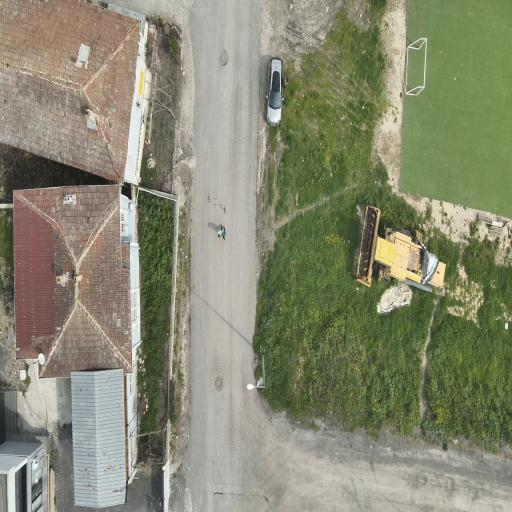car: (267, 58, 283, 126)
harvester: (354, 206, 445, 291)
person: (222, 227, 226, 240), (218, 226, 222, 237), (283, 77, 287, 88)
